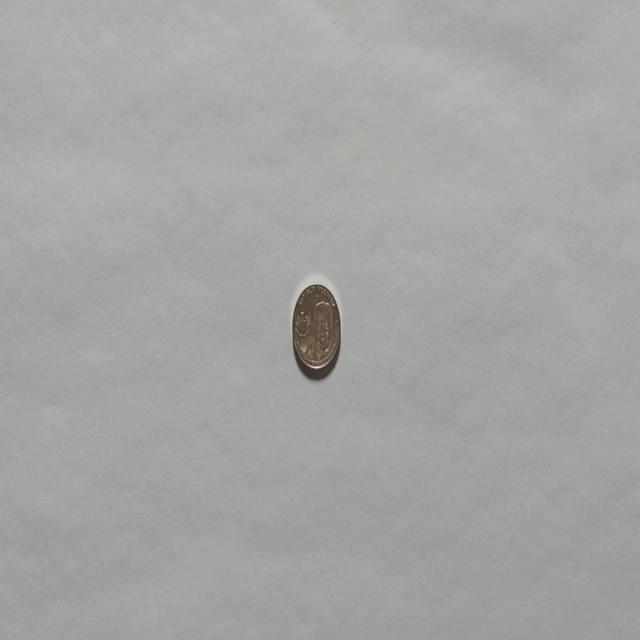seratus rupiah: (291, 282, 341, 377)
